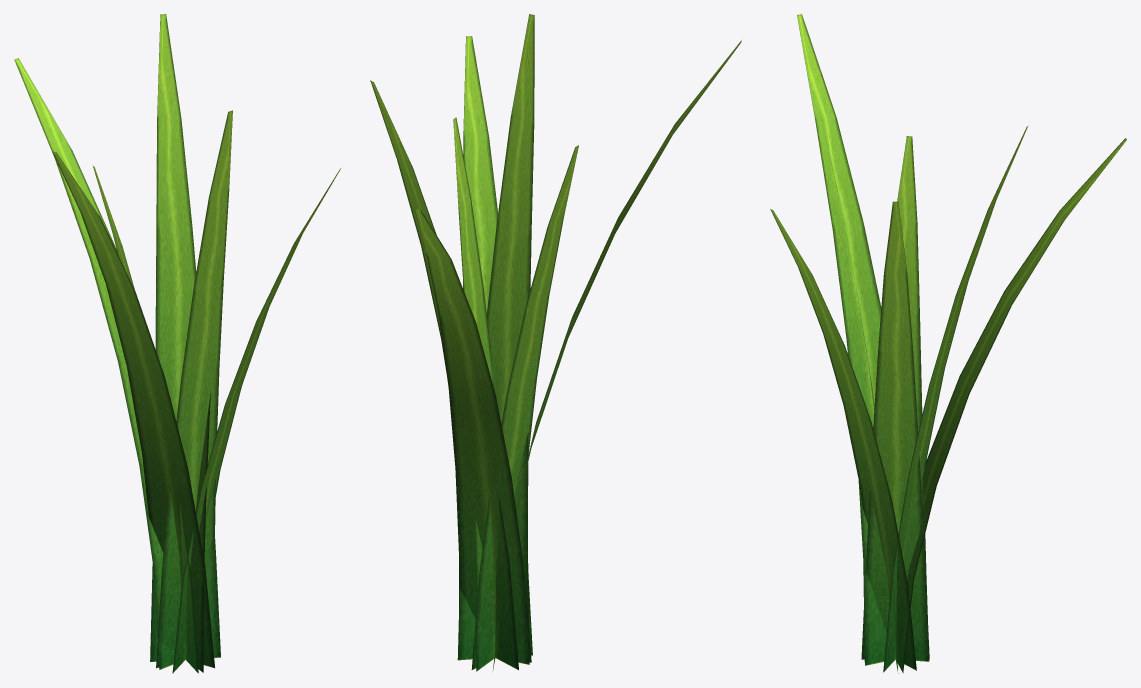
File: gourd-prop-rice-shoot.glb
3 views of the same model, side by side, from view 1: azimuth 30°, elevation 25°; view 2: azimuth 150°, elevation 25°; view 3: azimuth 270°, elevation 25° (orthographic). The views are drawn at different scales.
Parts seen in each view (by area): view 1: rice-shoot; view 2: rice-shoot; view 3: rice-shoot.
Boxes of the visible parts, bbox=[...] form: rice-shoot: bbox=[14, 14, 340, 673]; rice-shoot: bbox=[370, 14, 741, 671]; rice-shoot: bbox=[770, 14, 1126, 673].
Size of the model in its own units: 0.0327 by 0.0671 by 0.0387.
Materials: 1 (1 with a texture image).
